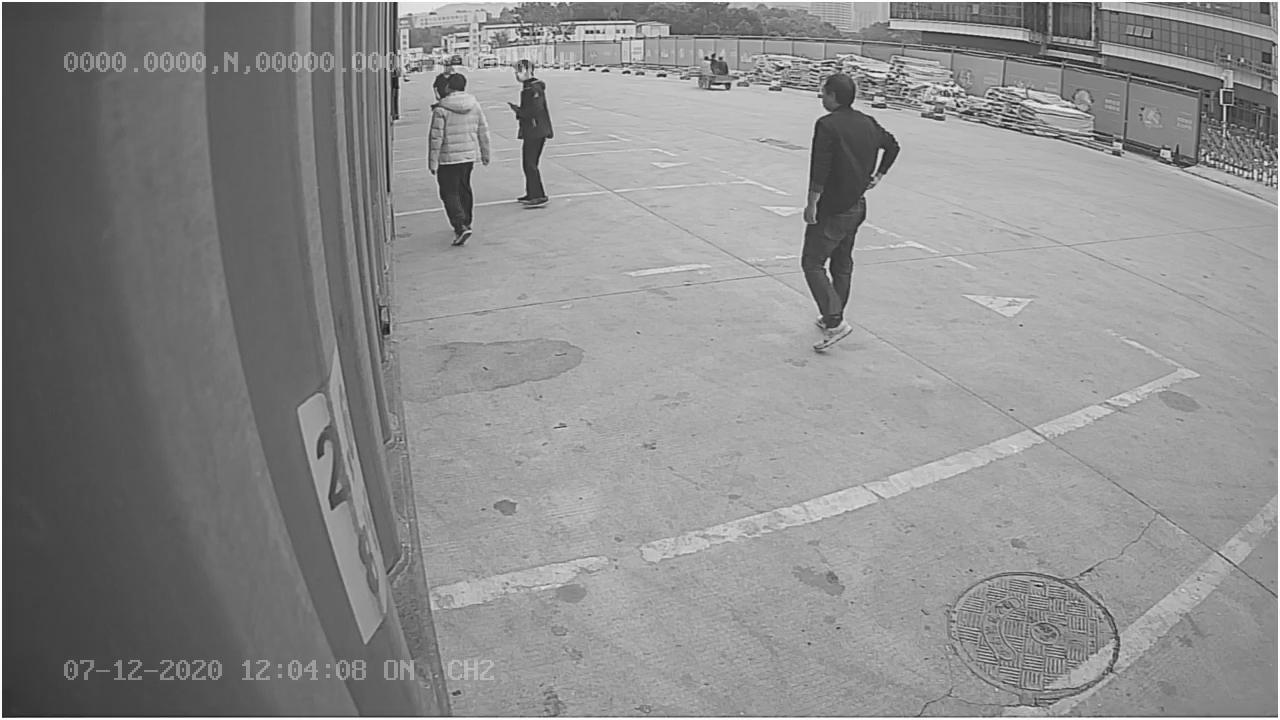person: (800, 69, 905, 357)
